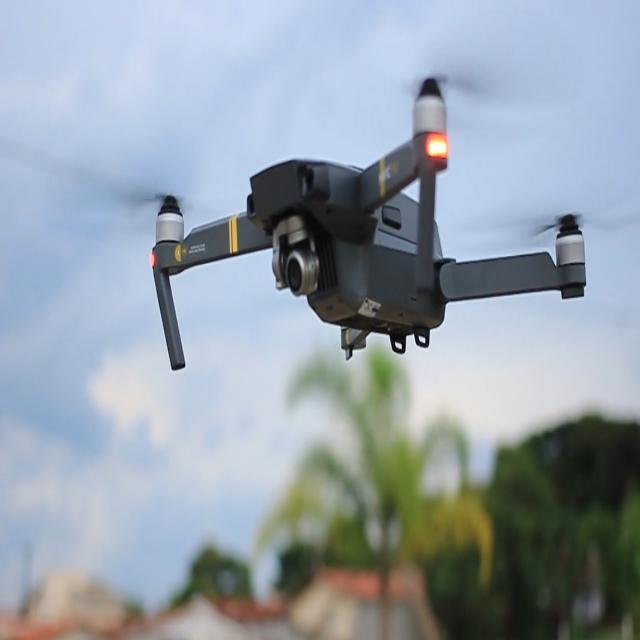Drone: (150, 77, 588, 372)
